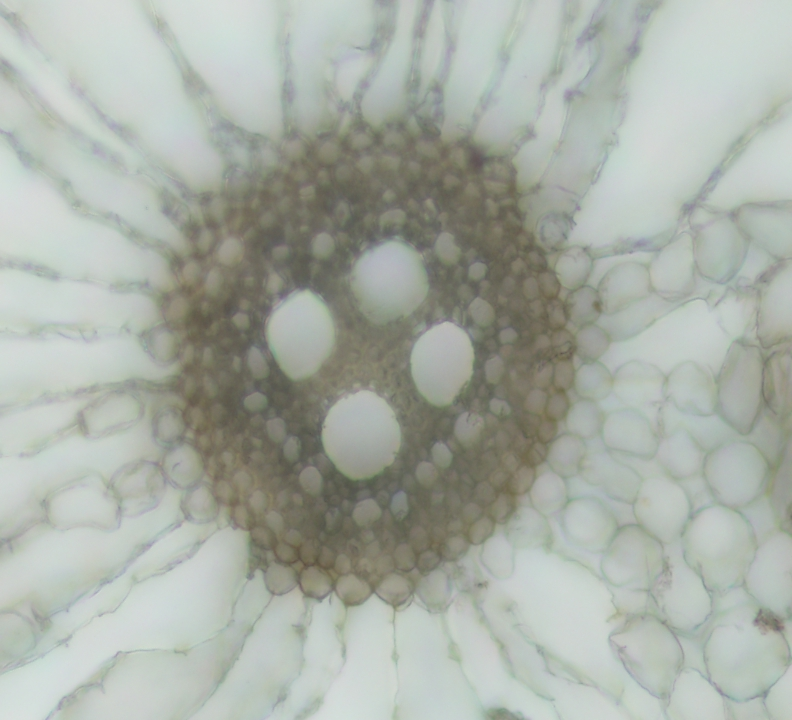lm: (322, 390, 402, 480), (349, 238, 429, 327), (264, 287, 334, 382), (410, 321, 475, 407)
